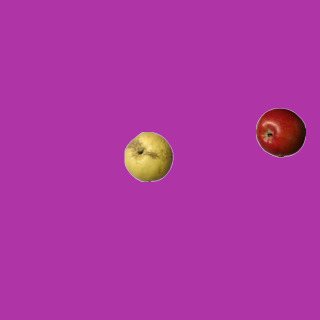Apple Braeburn: (255, 107, 305, 157)
Apple Golden 1: (123, 131, 173, 181)
